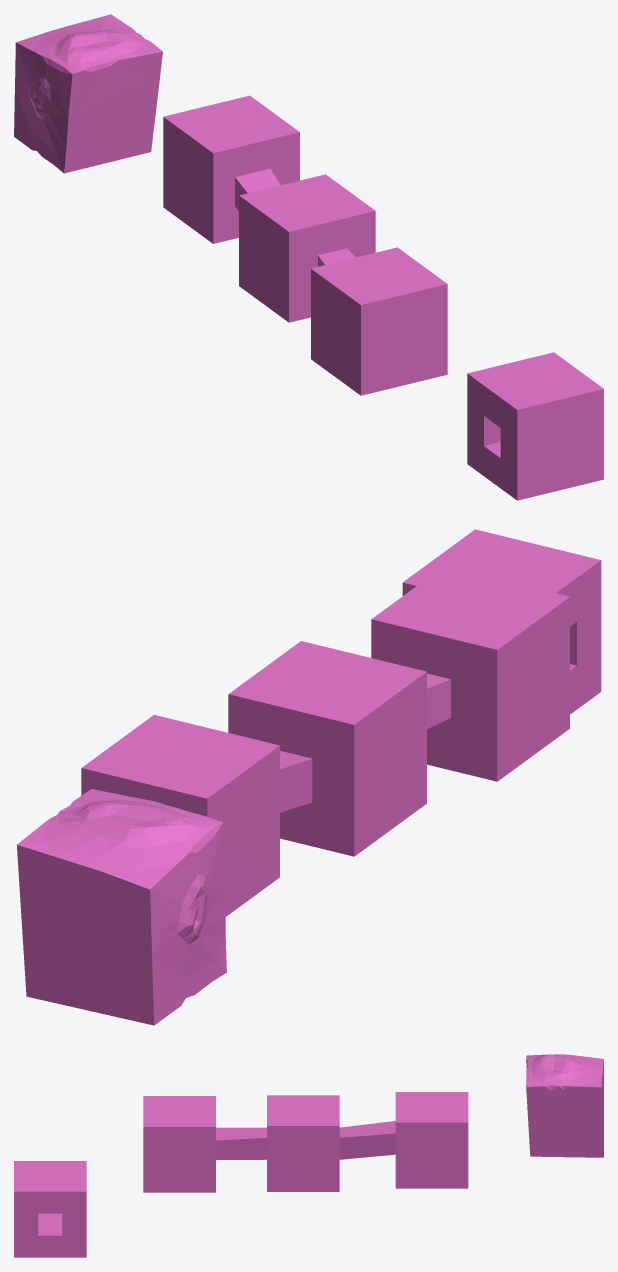
The picture shows the model from 3 angles, top to bottom: view 1: azimuth 30°, elevation 25°; view 2: azimuth 150°, elevation 25°; view 3: azimuth 270°, elevation 25°; orthographic projection. The views are drawn at different scales.
Parts seen in each view (by area): view 1: Cube.001; view 2: Cube.001; view 3: Cube.001.
Part boxes in pixels (left/top/right/bottom): Cube.001: left=14, top=14, right=603, bottom=500; Cube.001: left=17, top=529, right=601, bottom=1025; Cube.001: left=14, top=1054, right=603, bottom=1257.
Size of the model in its own units: 436 by 442 by 1623.
